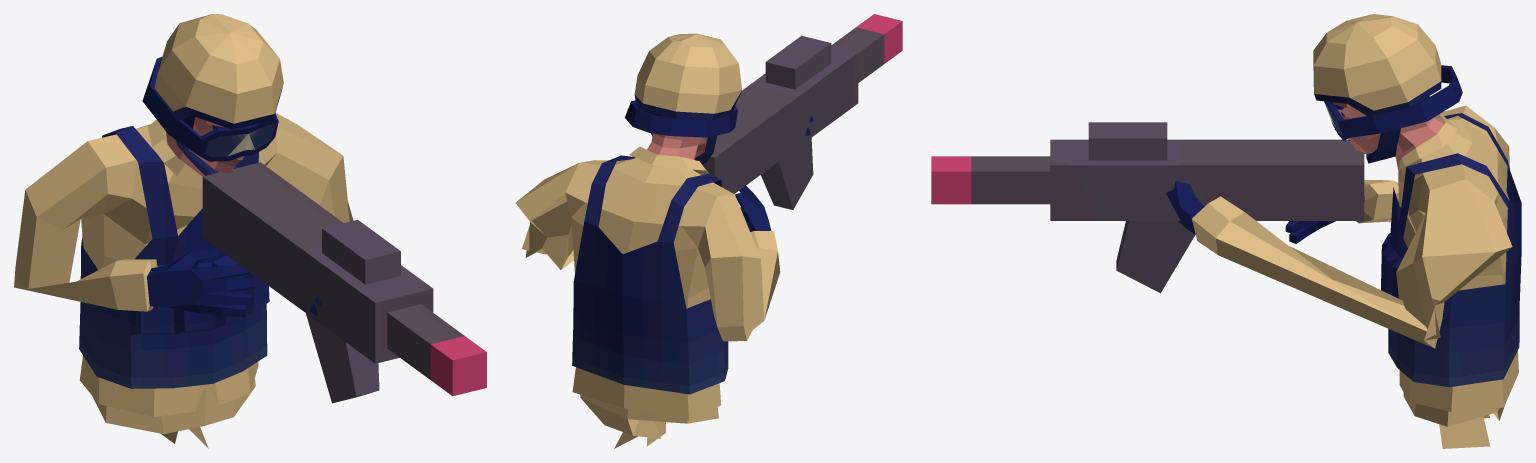
The model's file is 184_enemy_soldier.gltf.
3 renders of one model, left to right at view 1: azimuth 30°, elevation 25°; view 2: azimuth 150°, elevation 25°; view 3: azimuth 270°, elevation 25°, orthographic. The views are drawn at different scales.
Visible parts, largest first — view 1: enemy_soldier; view 2: enemy_soldier; view 3: enemy_soldier.
Boxes of the visible parts, x1=… form: enemy_soldier: x1=14, y1=14, x2=486, y2=448; enemy_soldier: x1=515, y1=14, x2=902, y2=448; enemy_soldier: x1=931, y1=14, x2=1521, y2=448.
Bounding box in the file's own units: 1.57 × 2.26 × 2.88.
Materials: 1 (1 with a texture image).
